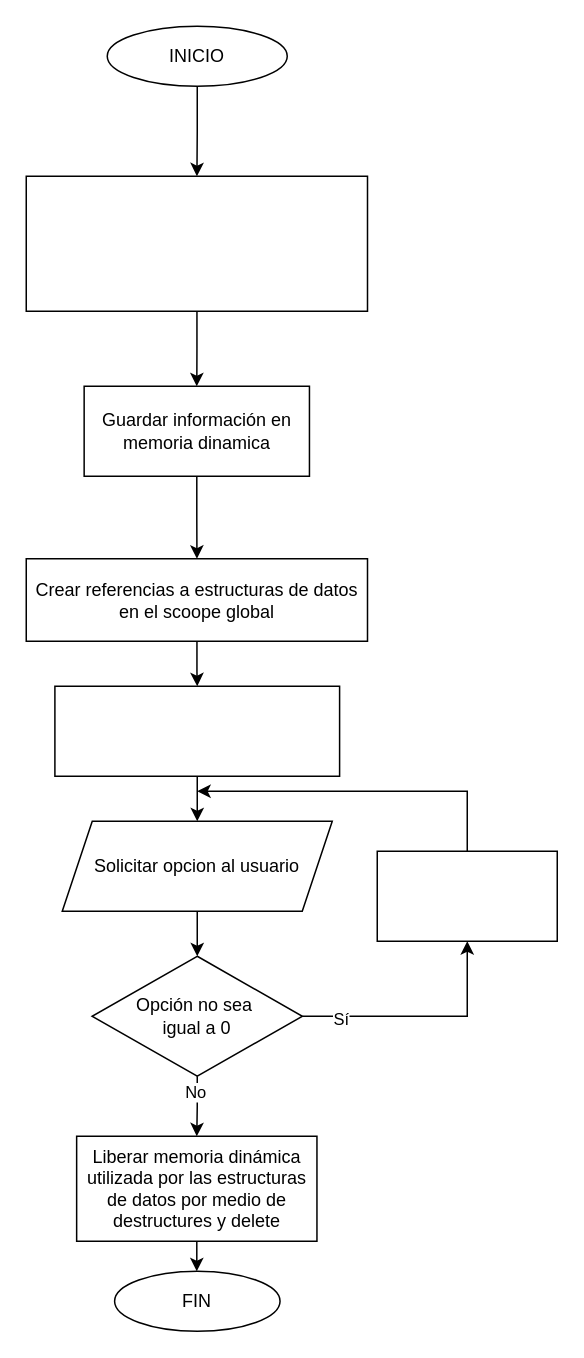
Some shapes in this 584 by 1358 pixel diagram are drawn without their labels. The shapes that lost their labels are listed below. From the top down, each one's centre as x and y in pixels, then its label:
At (x=196, y=243): "Carga masiva de datos en el orden: -capas -imagenes -usuarios".
At (x=196, y=730): "Crear instancias de las EDD en el scoope global".
At (x=466, y=895): "Ejecutar acción".
